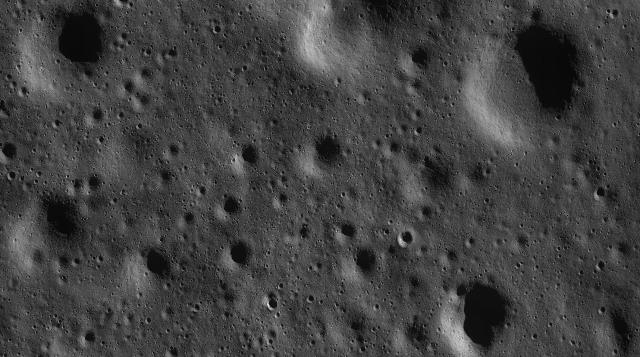crater: (479, 22, 597, 132), (32, 8, 116, 76), (450, 281, 518, 353), (29, 190, 89, 254), (327, 304, 383, 352), (132, 247, 186, 291), (393, 314, 443, 356), (348, 0, 428, 24), (306, 134, 346, 168), (606, 311, 638, 346), (224, 242, 260, 272), (348, 250, 382, 280), (68, 170, 105, 192), (238, 144, 262, 168), (614, 238, 638, 262), (222, 197, 246, 220), (0, 141, 24, 163), (410, 48, 430, 72), (510, 232, 534, 252), (396, 230, 418, 251), (340, 222, 360, 242), (388, 140, 404, 164), (441, 246, 462, 264), (135, 62, 155, 80), (156, 168, 177, 184), (183, 208, 199, 228), (167, 142, 183, 160), (90, 107, 106, 123), (166, 44, 180, 62), (300, 222, 312, 242), (594, 188, 608, 205), (418, 208, 437, 220), (274, 194, 288, 208), (81, 332, 97, 344), (594, 260, 610, 272), (210, 24, 224, 37), (268, 300, 280, 314), (8, 173, 18, 183), (413, 125, 423, 135), (197, 190, 209, 198), (120, 32, 128, 42), (241, 65, 247, 73)
